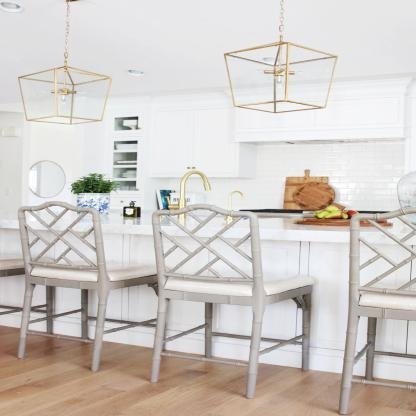chair: (154, 204, 314, 404), (8, 204, 151, 374), (337, 202, 416, 416), (0, 244, 52, 340)
light: (214, 4, 349, 113), (14, 7, 112, 134), (120, 60, 154, 82)
table: (4, 207, 416, 377)
